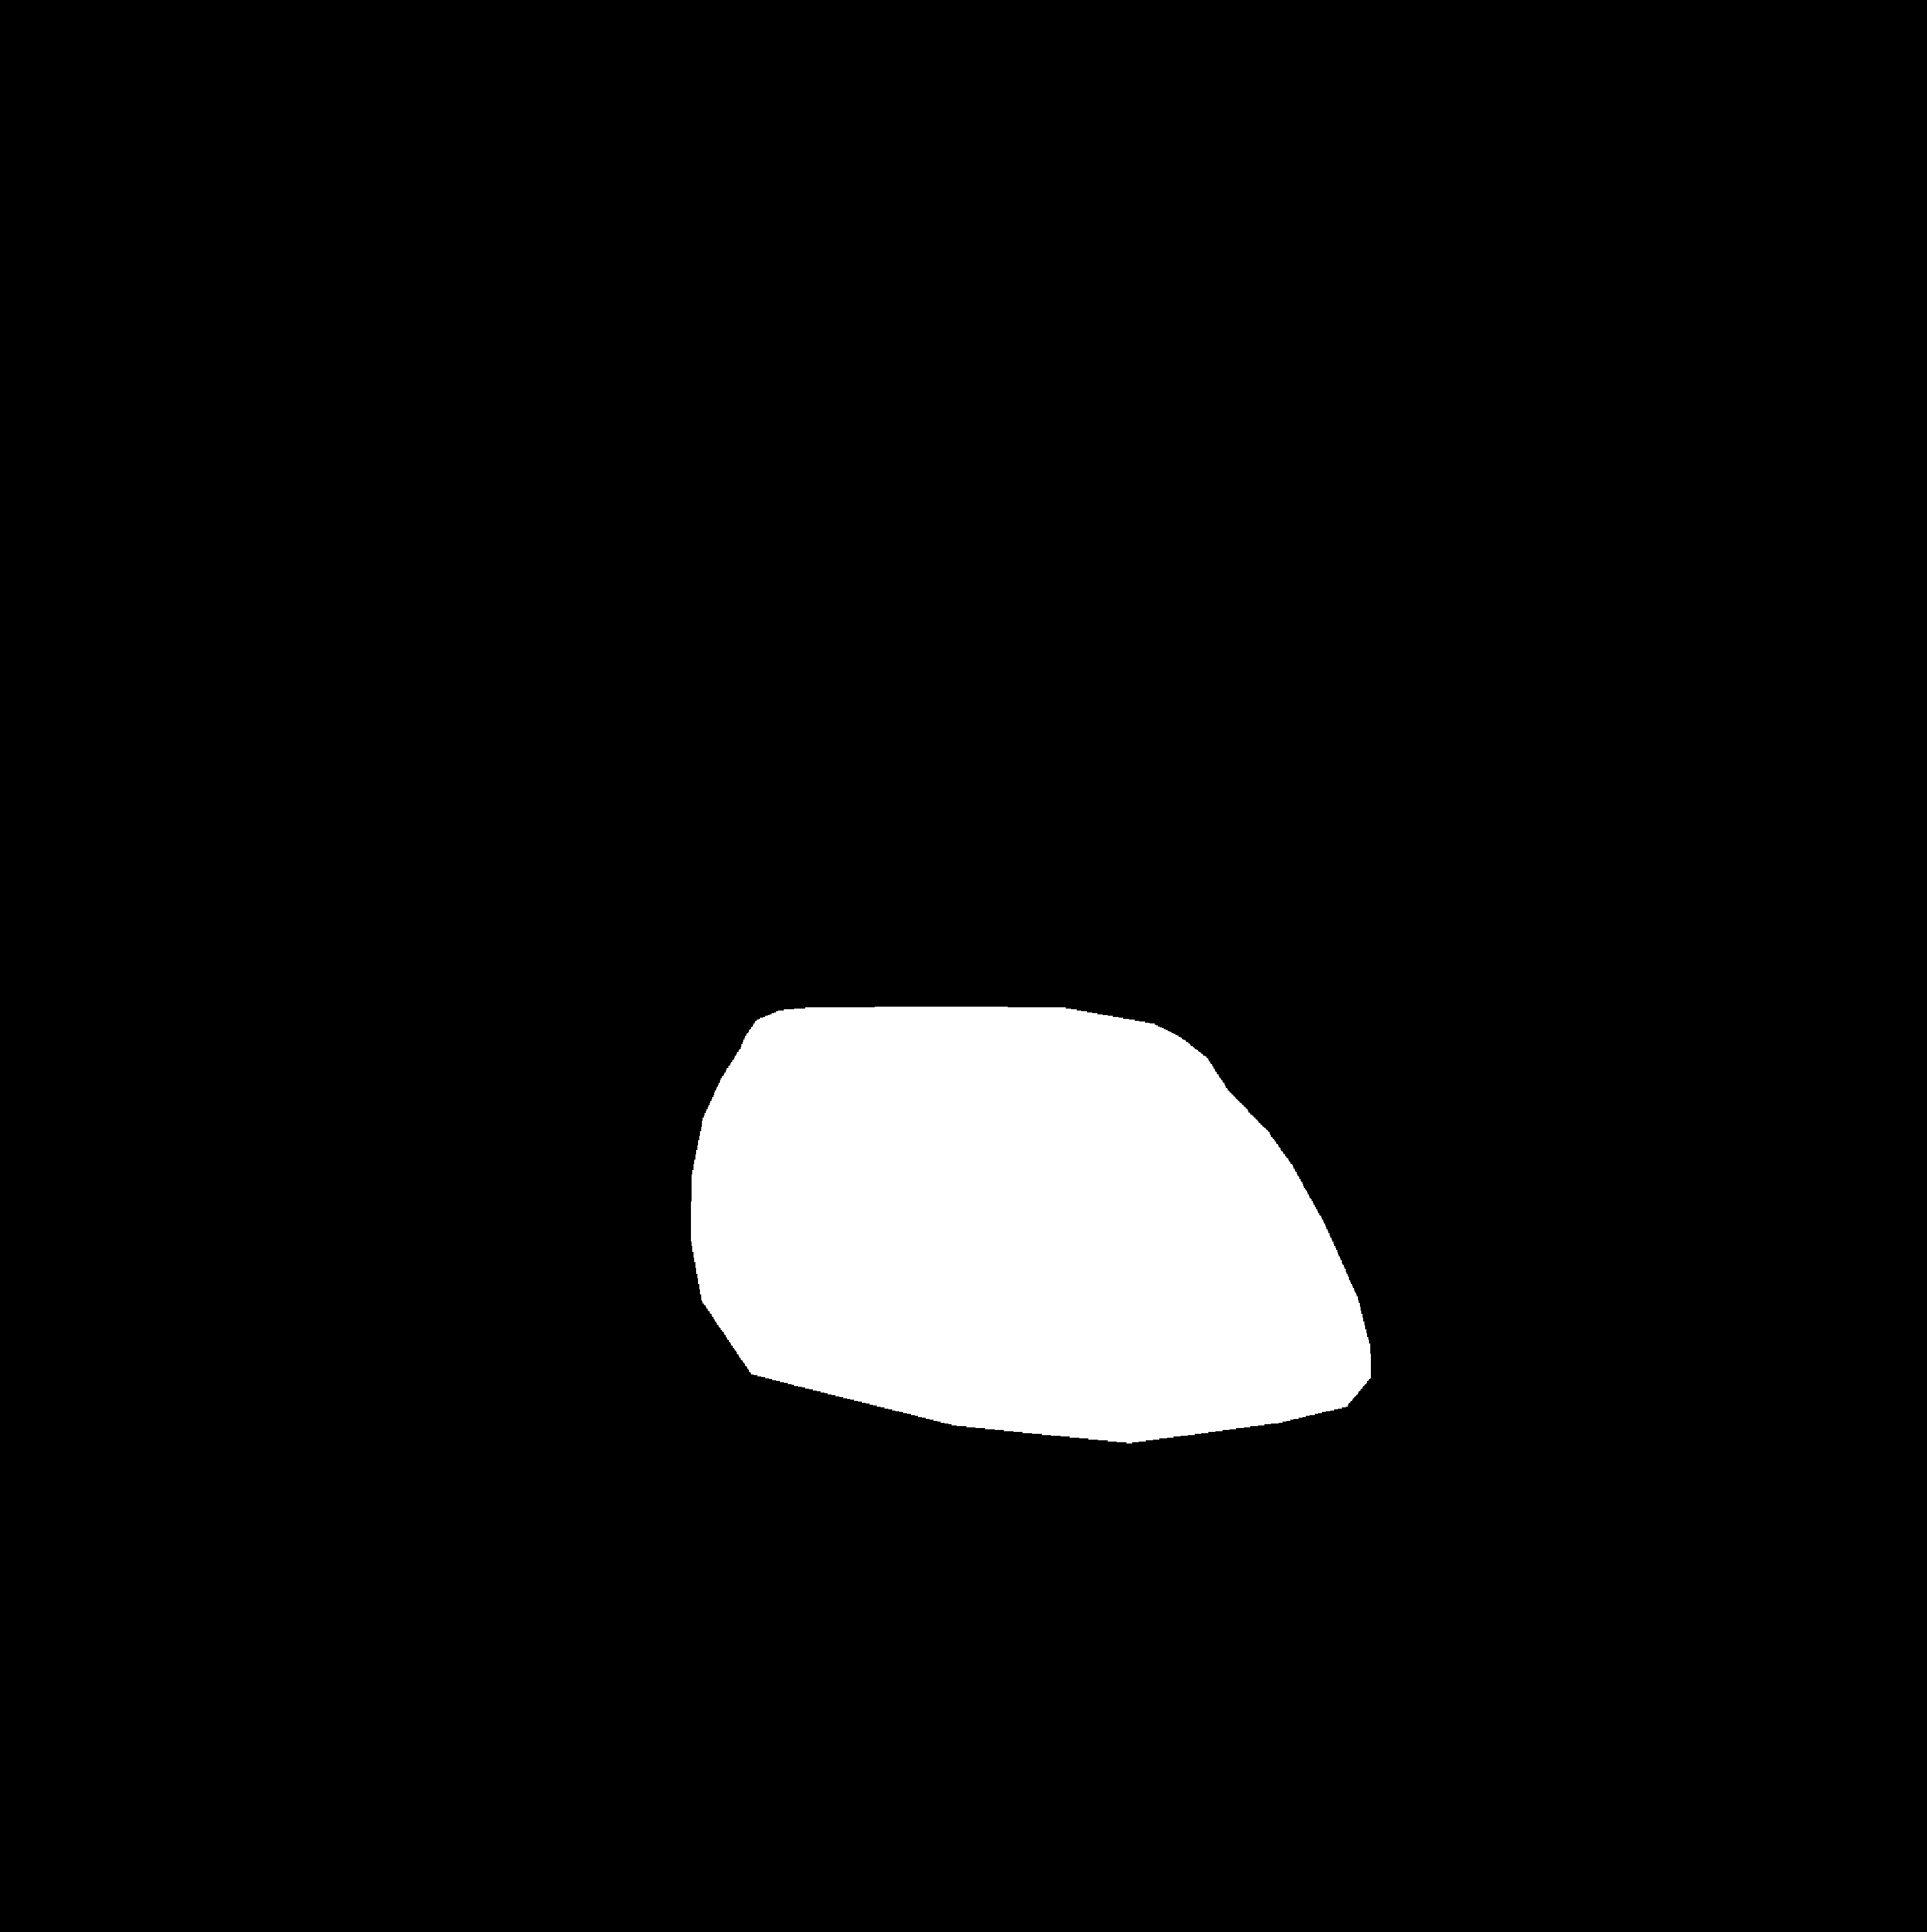heart: (688, 1025, 1378, 1434)
left_lung: (192, 367, 836, 1464)
right_lung: (981, 378, 1602, 1560)
